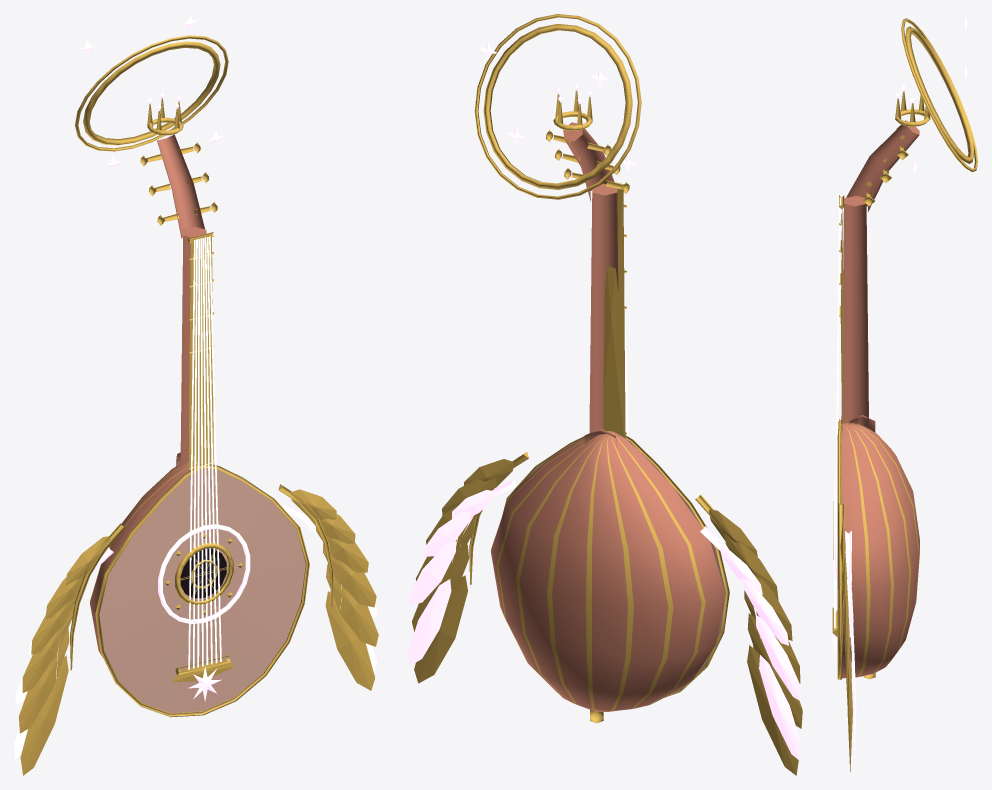
Rendered from lute_9.glb.
3 renders of one model, left to right at view 1: azimuth 30°, elevation 25°; view 2: azimuth 150°, elevation 25°; view 3: azimuth 270°, elevation 25°, orthographic. The views are drawn at different scales.
Parts seen in each view (by area): view 1: lute_9; view 2: lute_9; view 3: lute_9.
Boxes of the visible parts, <box> form: lute_9: <box>14,14,378,775</box>; lute_9: <box>407,14,802,775</box>; lute_9: <box>831,14,977,771</box>.
Size of the model in its own units: 0.4596 by 0.818 by 0.1637.
